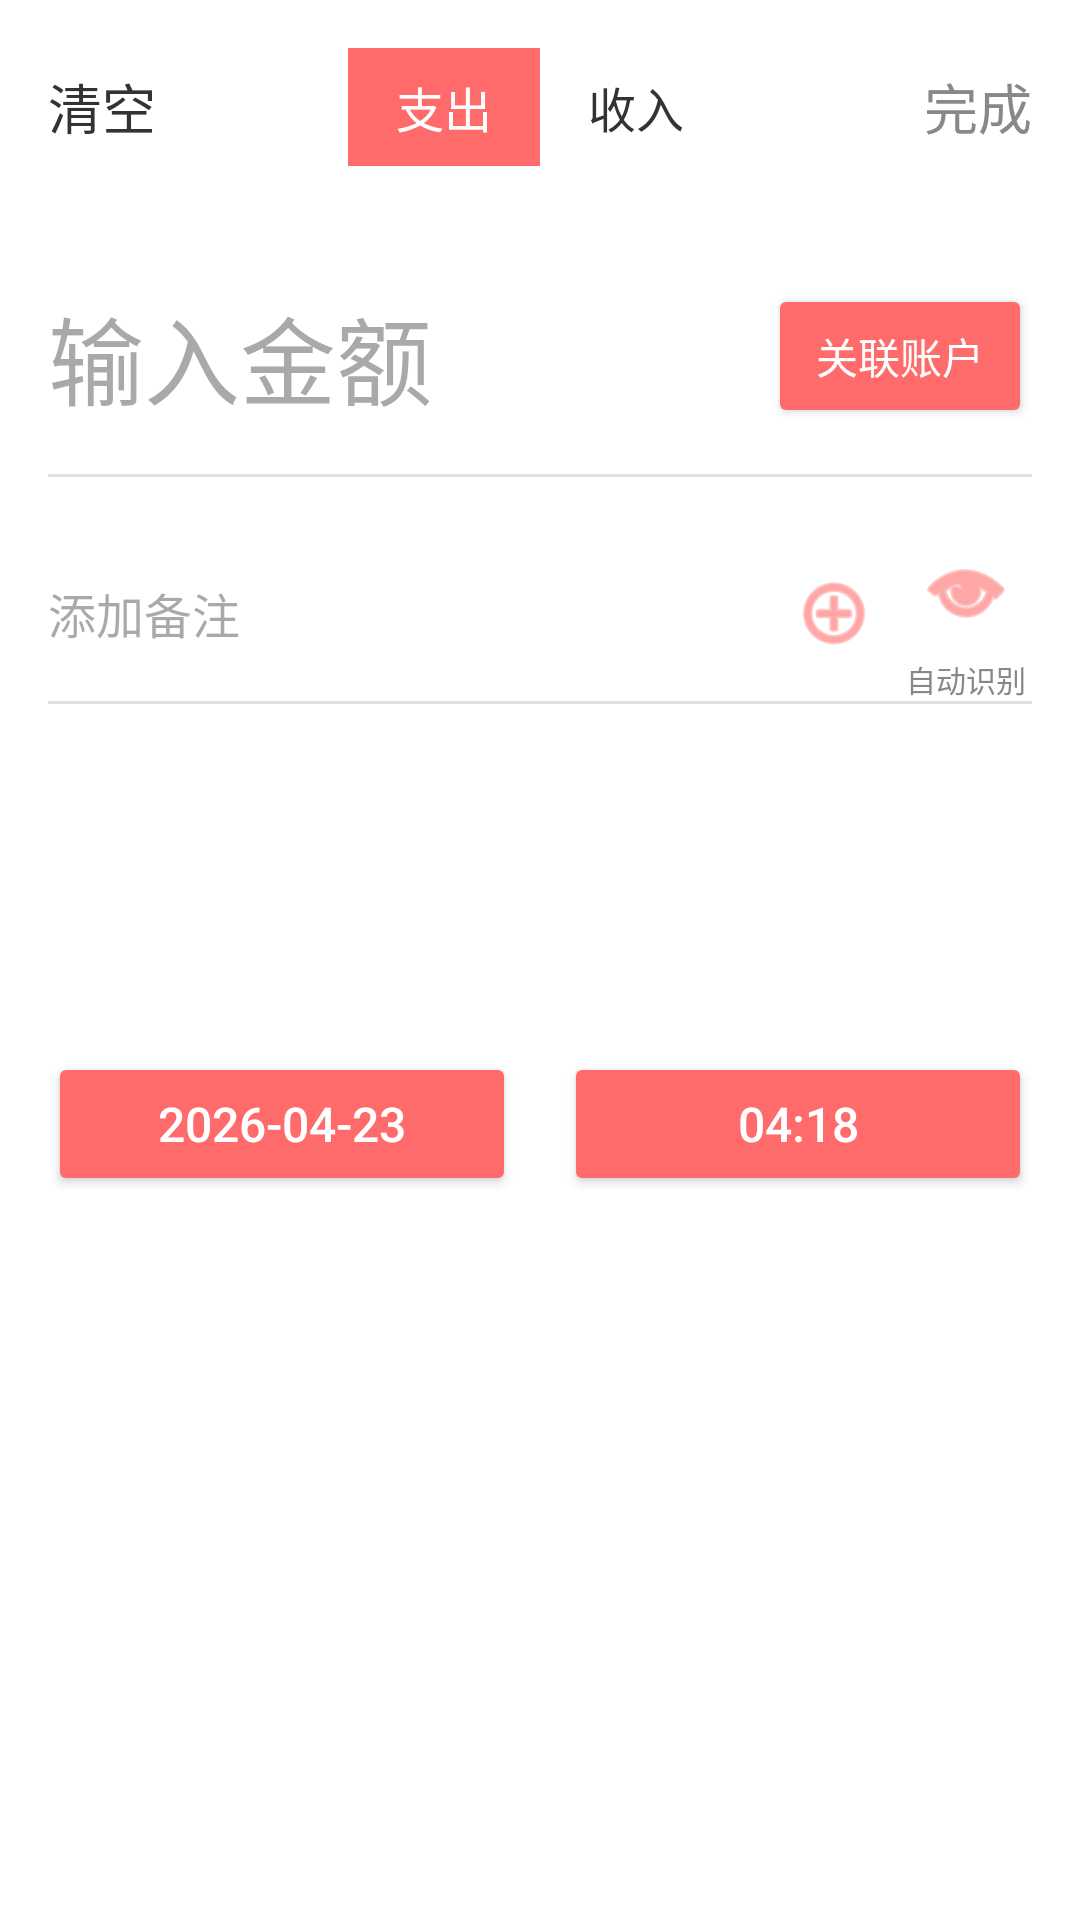

Where icons sit on this 1080x1920 app screen, as (x1, y1, x2, y2):
add: (803, 582, 865, 645)
识别图片文字: (927, 569, 1005, 618)
